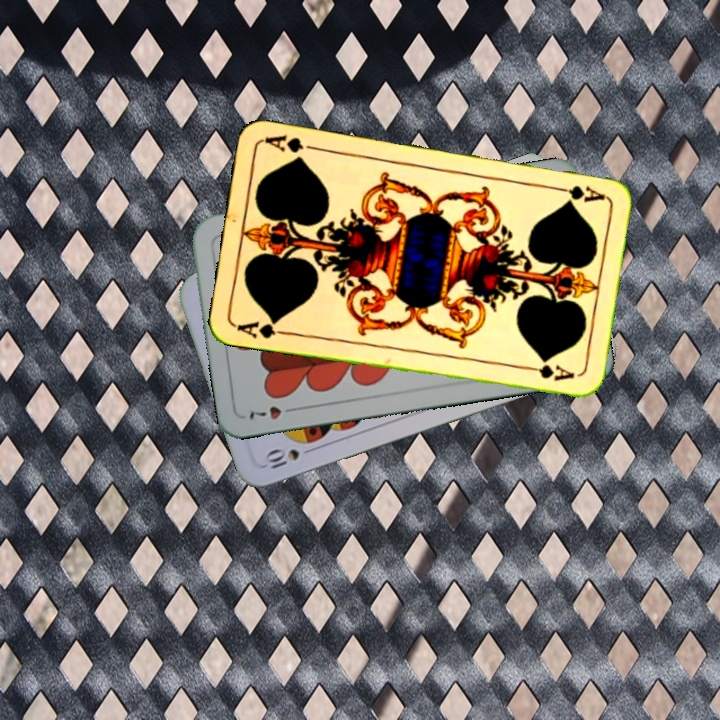GA: (232, 315, 292, 341), (548, 181, 607, 204)
H7: (243, 402, 301, 423)
S10: (261, 443, 318, 472)
